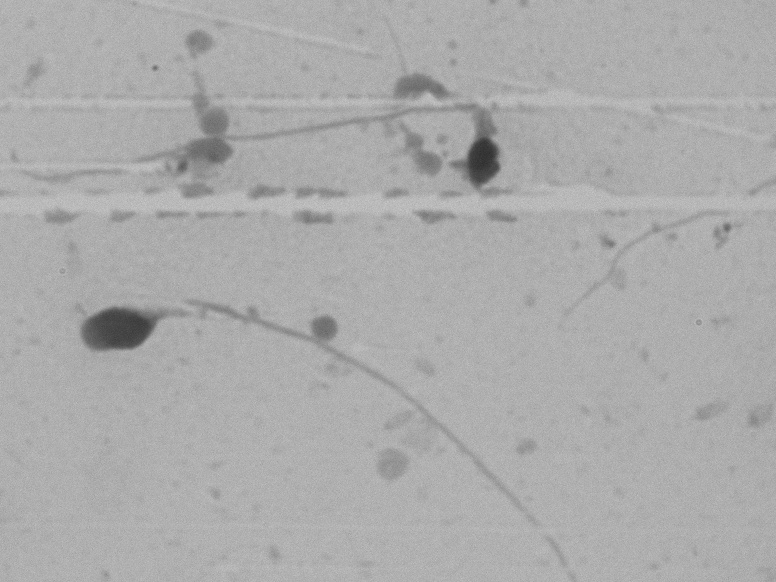Abnormal: (70, 253, 527, 560)
